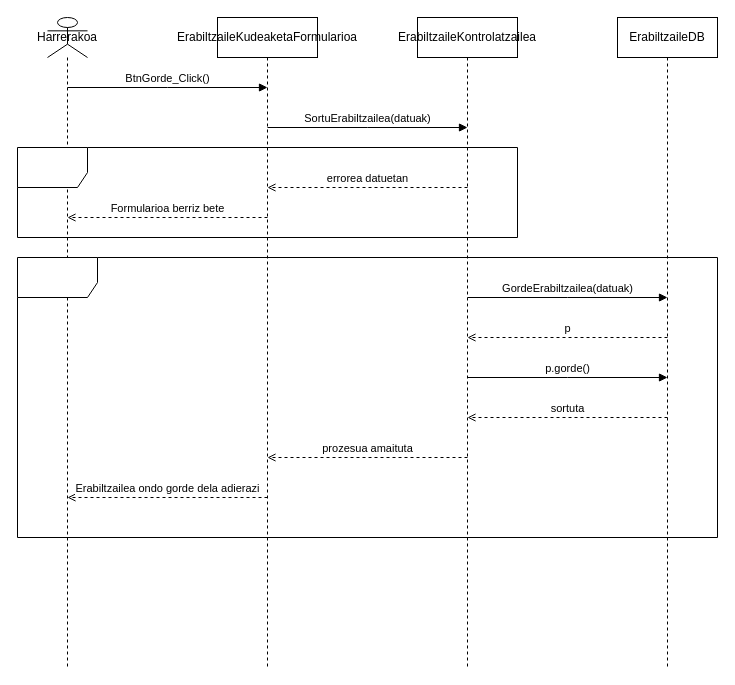
This 735x685 diagram has some shape labels left out. Here are the shapes that lost their labels. From the top down, the box of each, then its label:
(16, 146, 518, 238): alt [okerrak]
(16, 256, 718, 538): alt [ondo]
